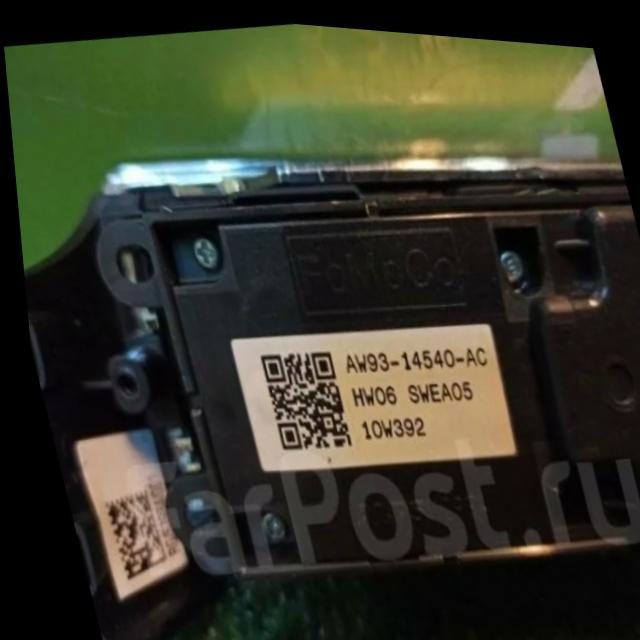datamatrix: (93, 485, 163, 584)
qrcode: (254, 341, 347, 453)
